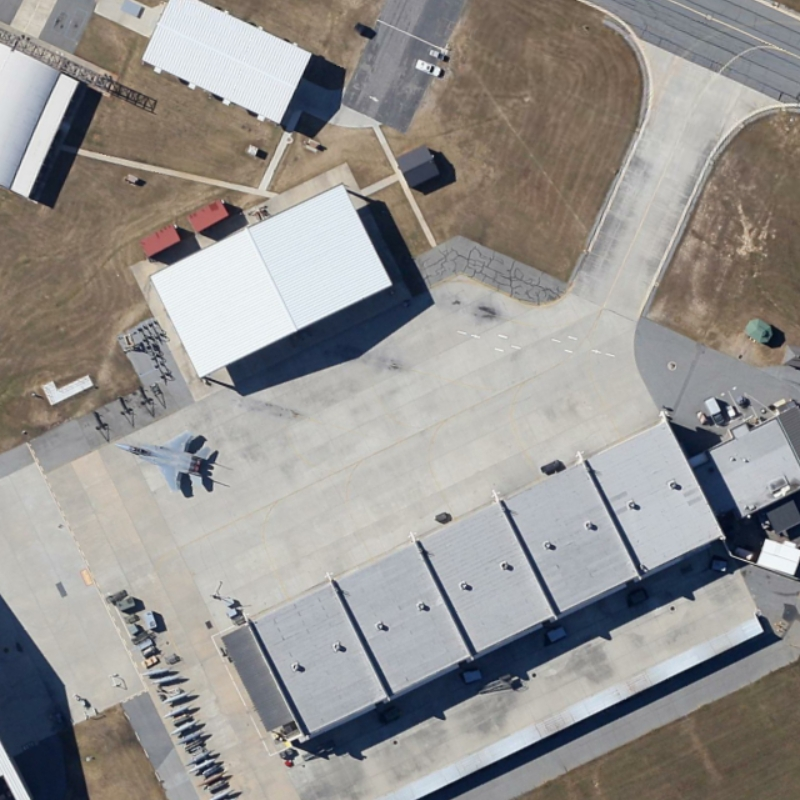A13: (107, 427, 220, 498)
